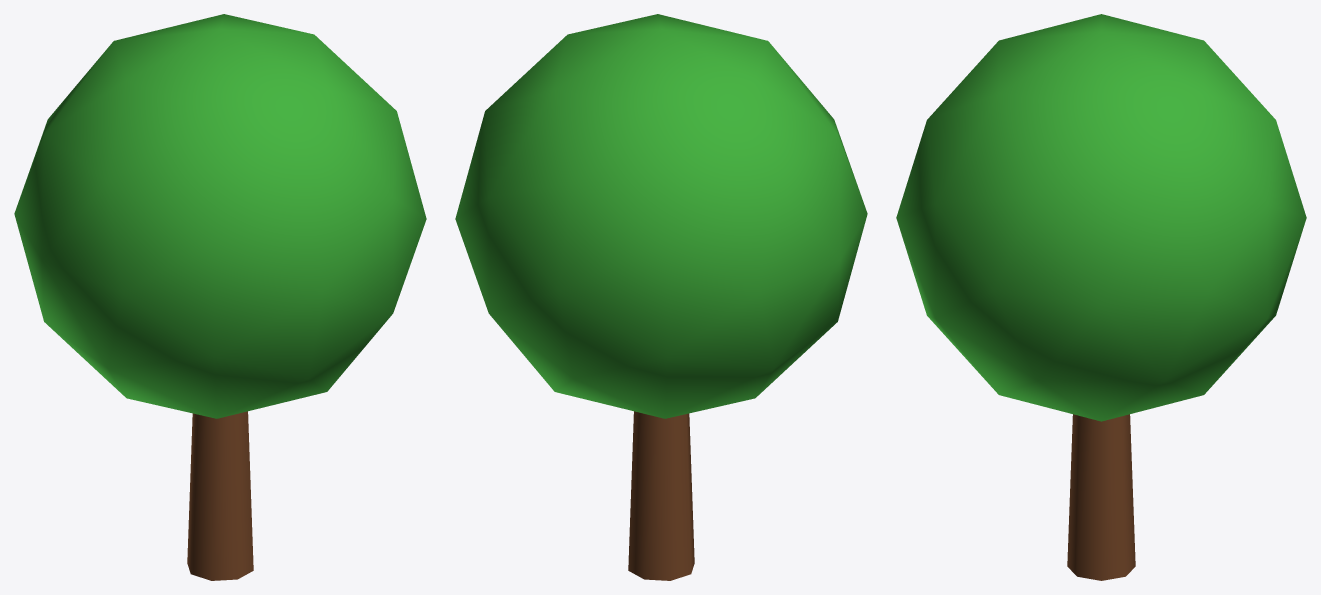
File: tree.glb
The picture shows the model from 3 angles, left to right: view 1: azimuth 30°, elevation 25°; view 2: azimuth 150°, elevation 25°; view 3: azimuth 270°, elevation 25°; orthographic projection.
Bounding box in the file's own units: 4.8 × 6.9 × 4.8.
